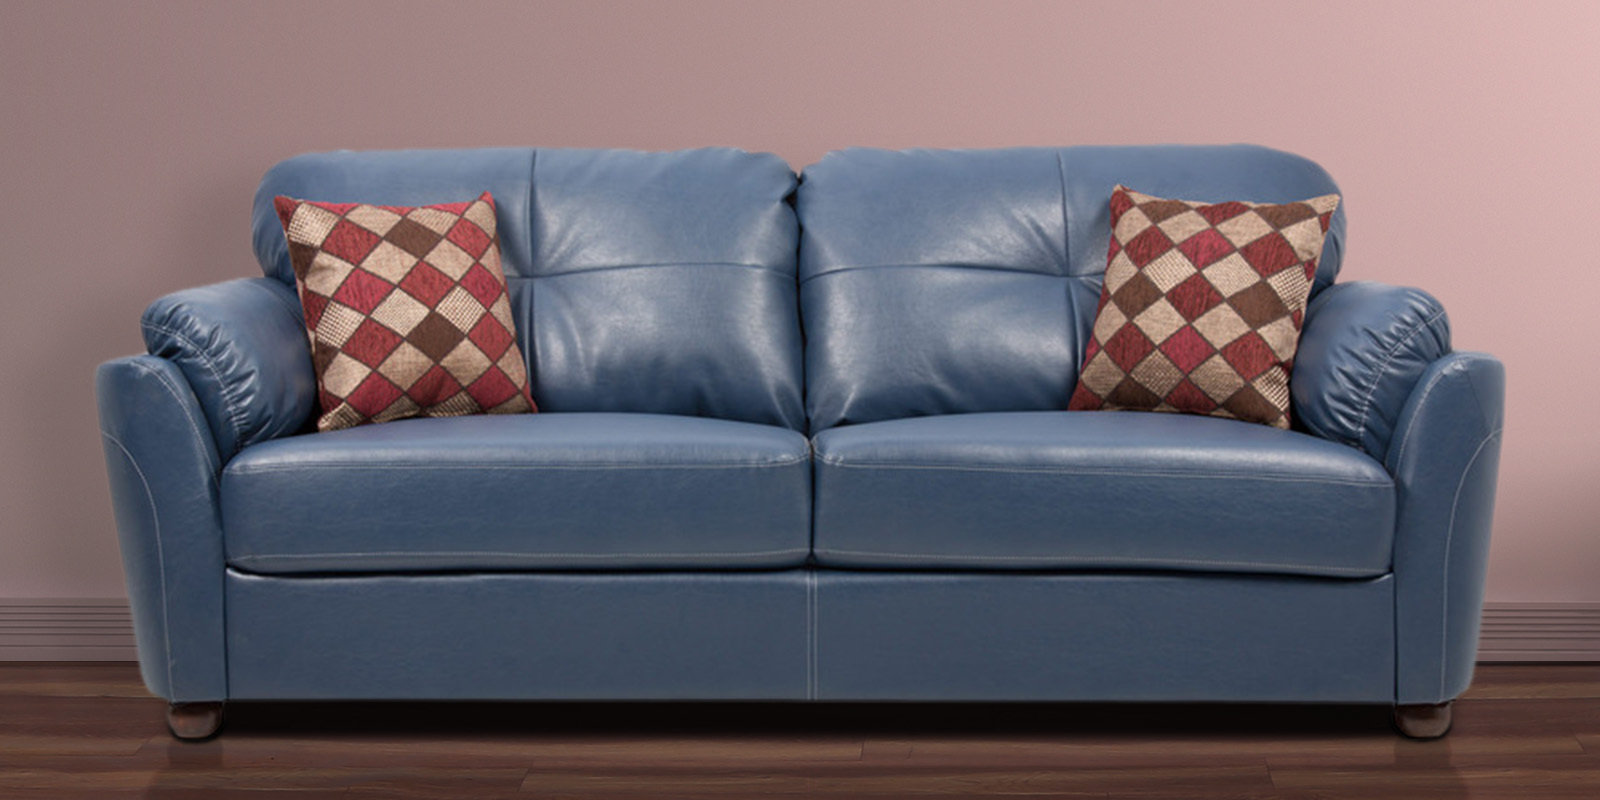Glassgow Heaven Three Seater Sofa with Throw Cushions in Blue Colour by Urban Li: (60, 132, 1531, 753)
